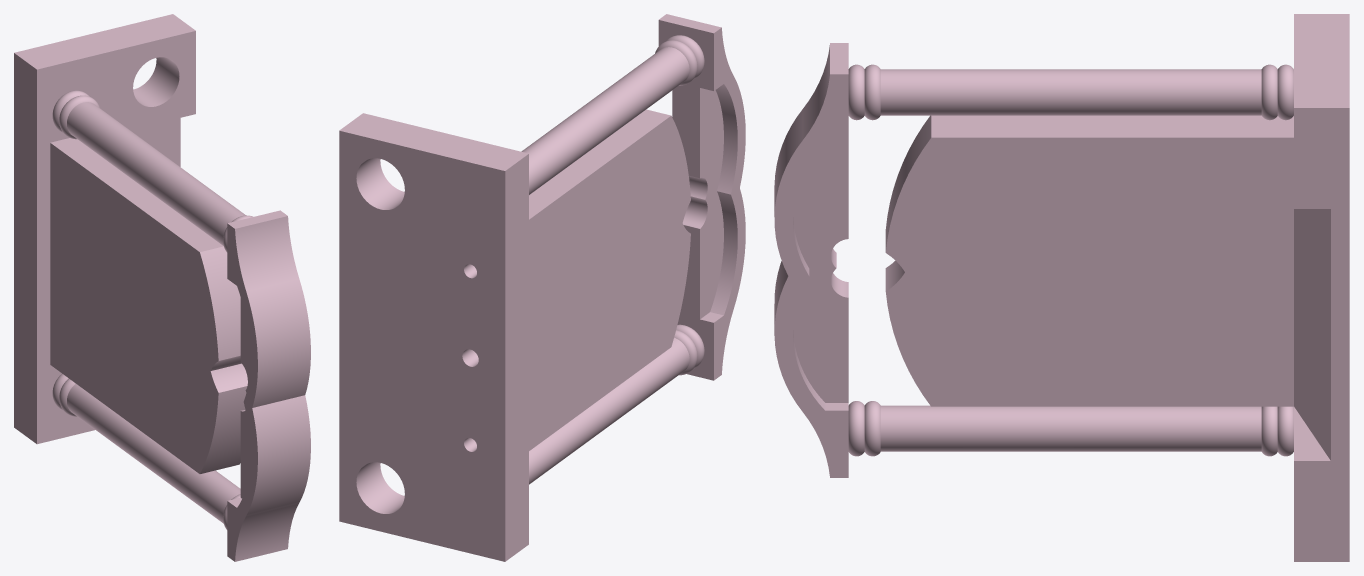
3 renders of one model, left to right at view 1: azimuth 30°, elevation 25°; view 2: azimuth 150°, elevation 25°; view 3: azimuth 270°, elevation 25°, orthographic. The views are drawn at different scales.
Visible parts, largest first — view 1: Part1; view 2: Part1; view 3: Part1.
Boxes of the visible parts, x1,y1,x2,y2 form: Part1: [14, 14, 310, 561]; Part1: [339, 14, 745, 561]; Part1: [774, 14, 1349, 561].
Bounding box in the file's own units: 0.3048 × 0.6858 × 0.7874.
